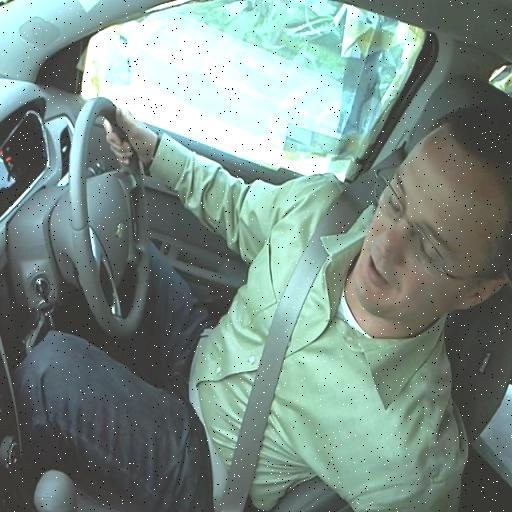turning: (35, 83, 509, 428)
